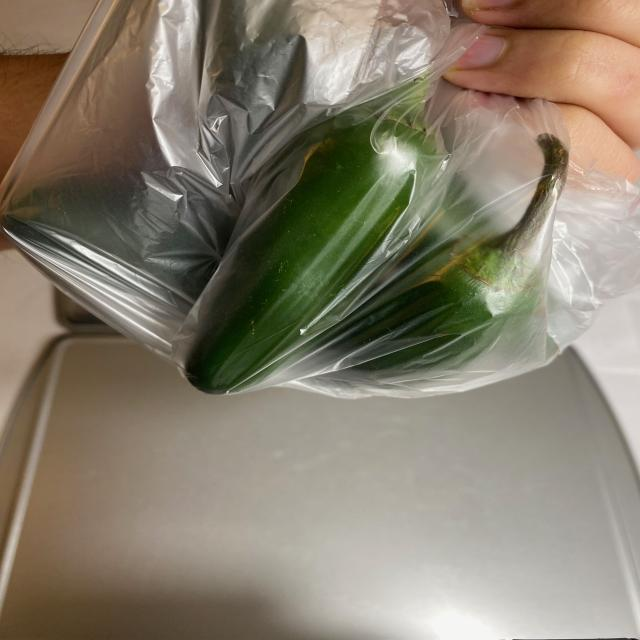chilli: (15, 41, 592, 408)
